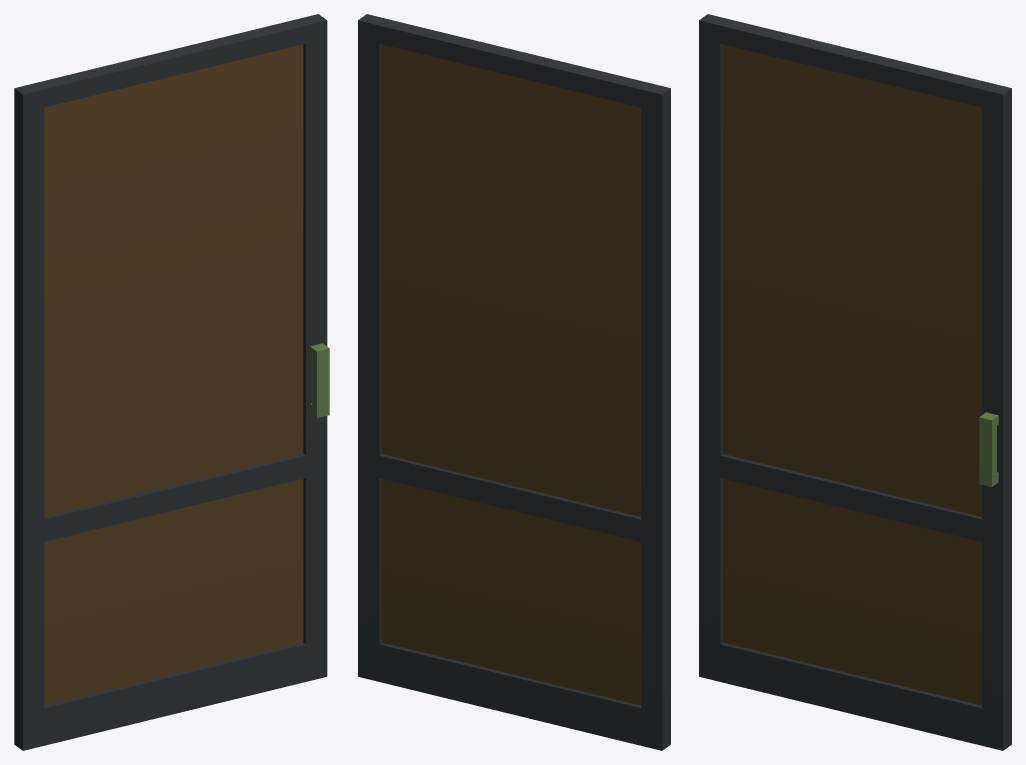
Rendered from SmallHouse_08_Door01.fbx.
3 views of the same model, side by side, from view 1: azimuth 30°, elevation 25°; view 2: azimuth 150°, elevation 25°; view 3: azimuth 330°, elevation 25° (orthographic).
Visible parts, largest first — view 1: SmallHouse_08_Door01; view 2: SmallHouse_08_Door01; view 3: SmallHouse_08_Door01.
Part boxes in pixels (x1,y1,x2,y2): SmallHouse_08_Door01: [14, 14, 329, 750]; SmallHouse_08_Door01: [358, 14, 670, 750]; SmallHouse_08_Door01: [699, 14, 1011, 750].
Size of the model in its own units: 1 by 2.06 by 0.0891.
